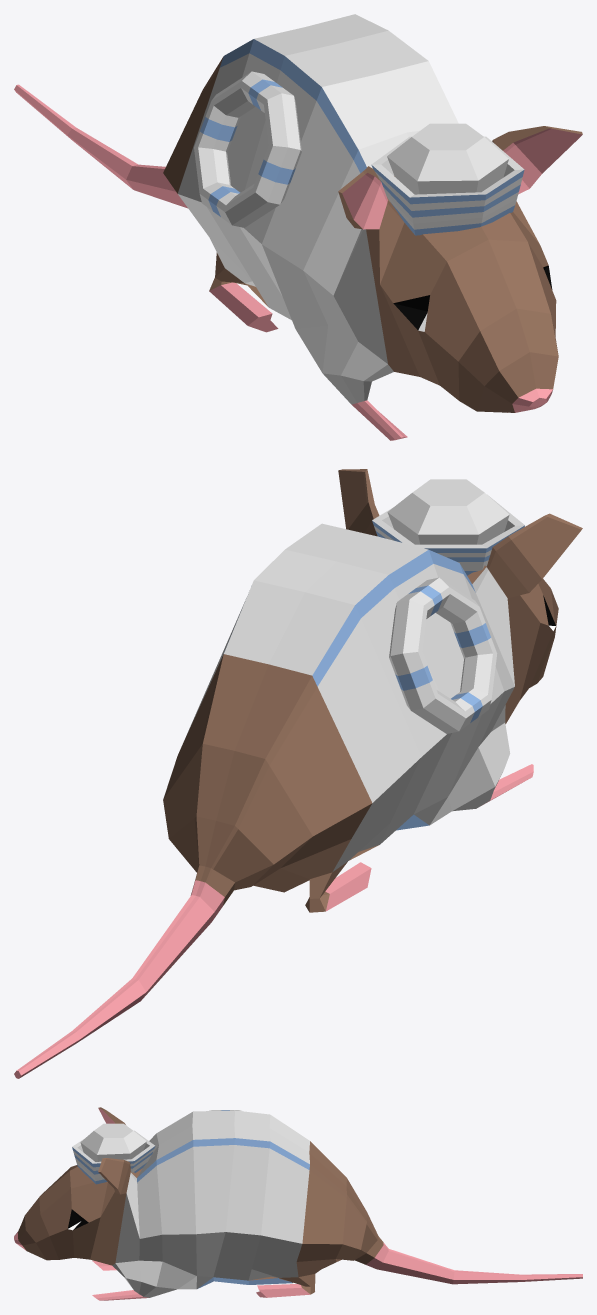
Rendered from skins rat sauveteur .fbx.
The picture shows the model from 3 angles, top to bottom: view 1: azimuth 30°, elevation 25°; view 2: azimuth 150°, elevation 25°; view 3: azimuth 270°, elevation 25°; orthographic projection. The views are drawn at different scales.
Visible parts, largest first — view 1: Cube.004; view 2: Cube.004; view 3: Cube.004.
Boxes of the visible parts, left/top/right/bottom form: Cube.004: left=14, top=14, right=582, bottom=440; Cube.004: left=14, top=469, right=582, bottom=1078; Cube.004: left=14, top=1107, right=582, bottom=1300.
Bounding box in the file's own units: 219 × 243 × 778.
